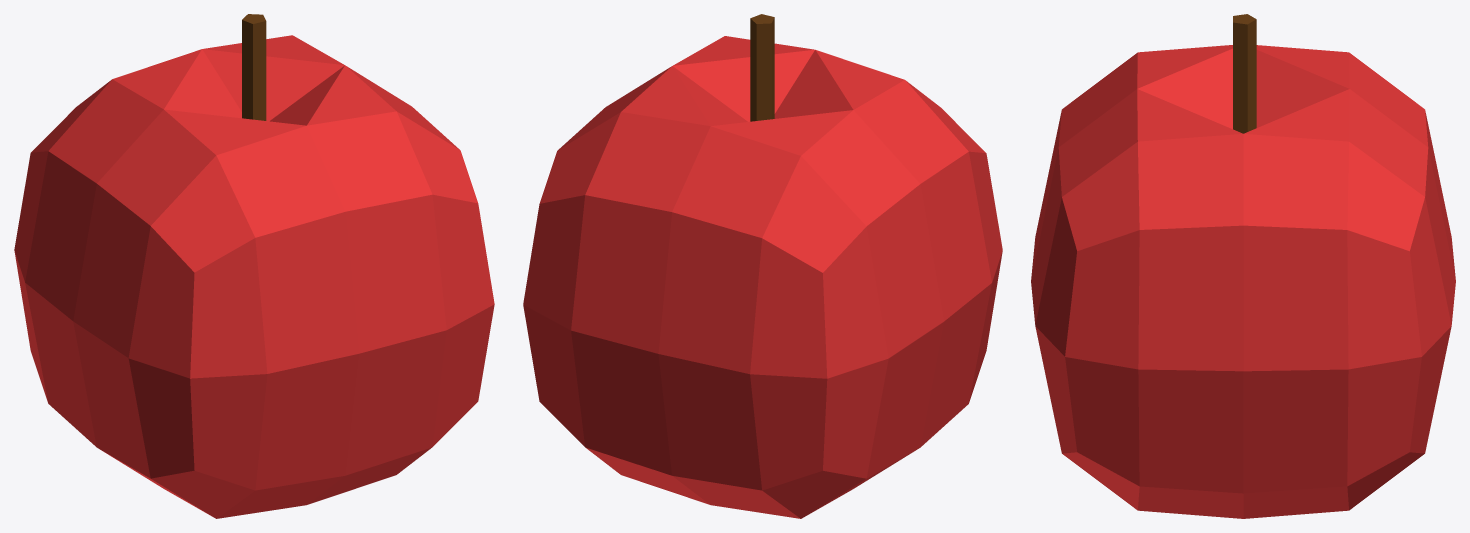
The model's file is Apple.fbx.
3 views of the same model, side by side, from view 1: azimuth 30°, elevation 25°; view 2: azimuth 150°, elevation 25°; view 3: azimuth 270°, elevation 25° (orthographic).
Parts seen in each view (by area): view 1: Cube, Cylinder; view 2: Cube, Cylinder; view 3: Cube, Cylinder.
Part boxes in pixels (x1,y1,x2,y2): Cube: [14, 35, 494, 518]; Cylinder: [242, 14, 266, 120]; Cube: [523, 36, 1002, 518]; Cylinder: [750, 14, 774, 121]; Cube: [1031, 45, 1455, 518]; Cylinder: [1233, 14, 1256, 133].
Bounding box in the file's own units: 192 × 226 × 192.
